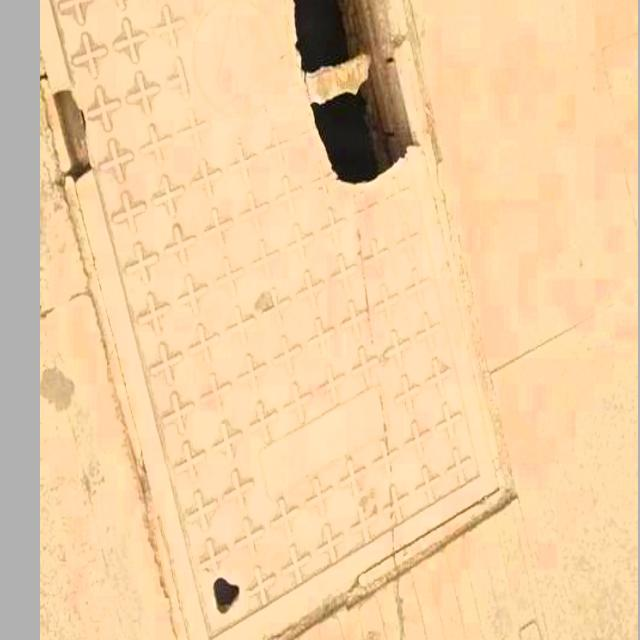broke: (53, 0, 556, 620)
